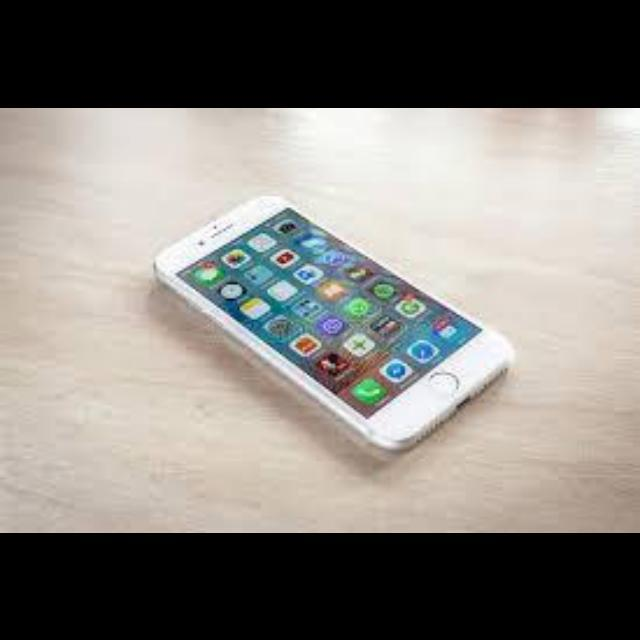phone: (154, 175, 541, 474)
